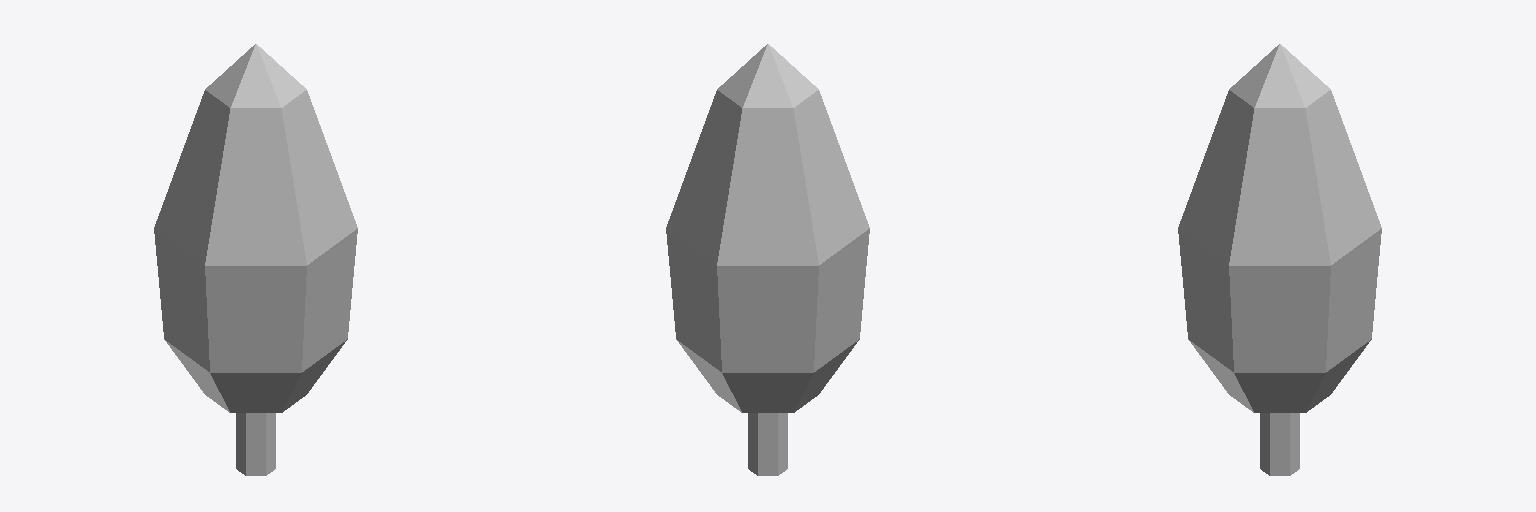
Rendered from Prop_Tree_Cedar_1.obj.
3 views of the same model, side by side, from view 1: azimuth 30°, elevation 25°; view 2: azimuth 150°, elevation 25°; view 3: azimuth 270°, elevation 25° (orthographic).
Parts seen in each view (by area): view 1: object2, object1; view 2: object2, object1; view 3: object2, object1.
Part boxes in pixels (left/top/right/bottom): object2: left=154, top=44, right=357, bottom=412; object1: left=236, top=413, right=275, bottom=475; object2: left=666, top=44, right=869, bottom=412; object1: left=748, top=413, right=787, bottom=475; object2: left=1178, top=44, right=1381, bottom=412; object1: left=1260, top=413, right=1299, bottom=475.
Size of the model in its own units: 0.866 by 2.3 by 1.